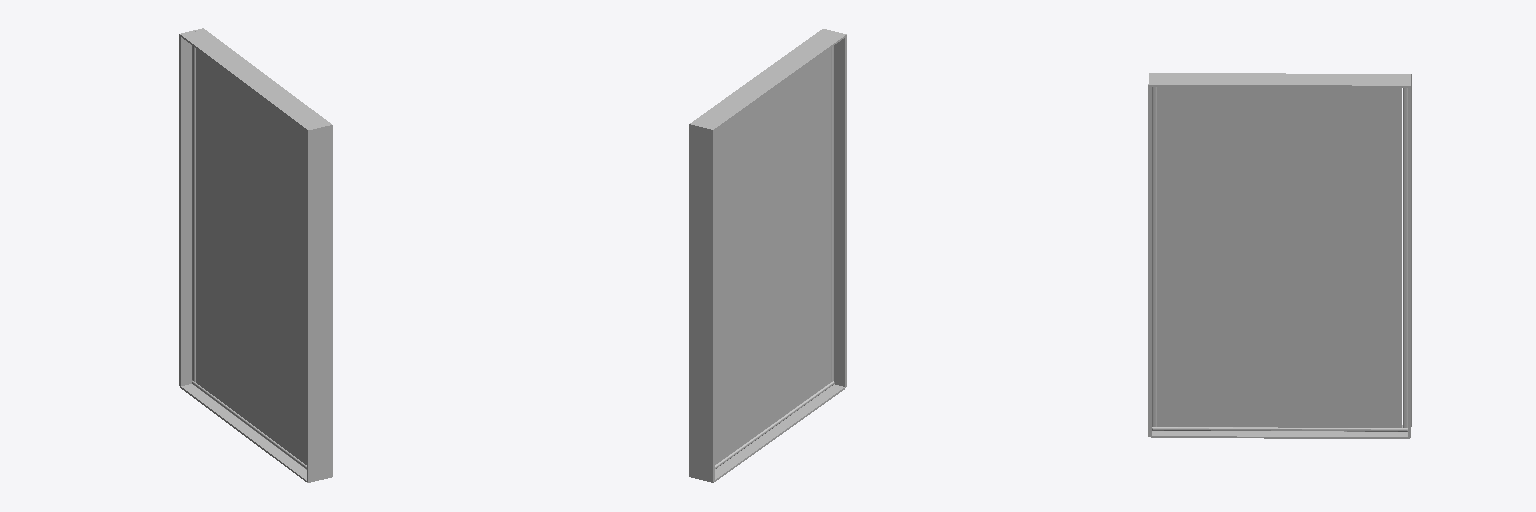
Rendered from Ventana15.obj.
3 views of the same model, side by side, from view 1: azimuth 30°, elevation 25°; view 2: azimuth 150°, elevation 25°; view 3: azimuth 270°, elevation 25° (orthographic).
Visible parts, largest first — view 1: polySurface98; view 2: polySurface98; view 3: polySurface98.
Part boxes in pixels (left/top/right/bottom): polySurface98: left=179, top=28, right=332, bottom=482; polySurface98: left=689, top=29, right=846, bottom=482; polySurface98: left=1148, top=73, right=1411, bottom=438.
Size of the model in its own units: 0.1522 by 1.95 by 1.32.